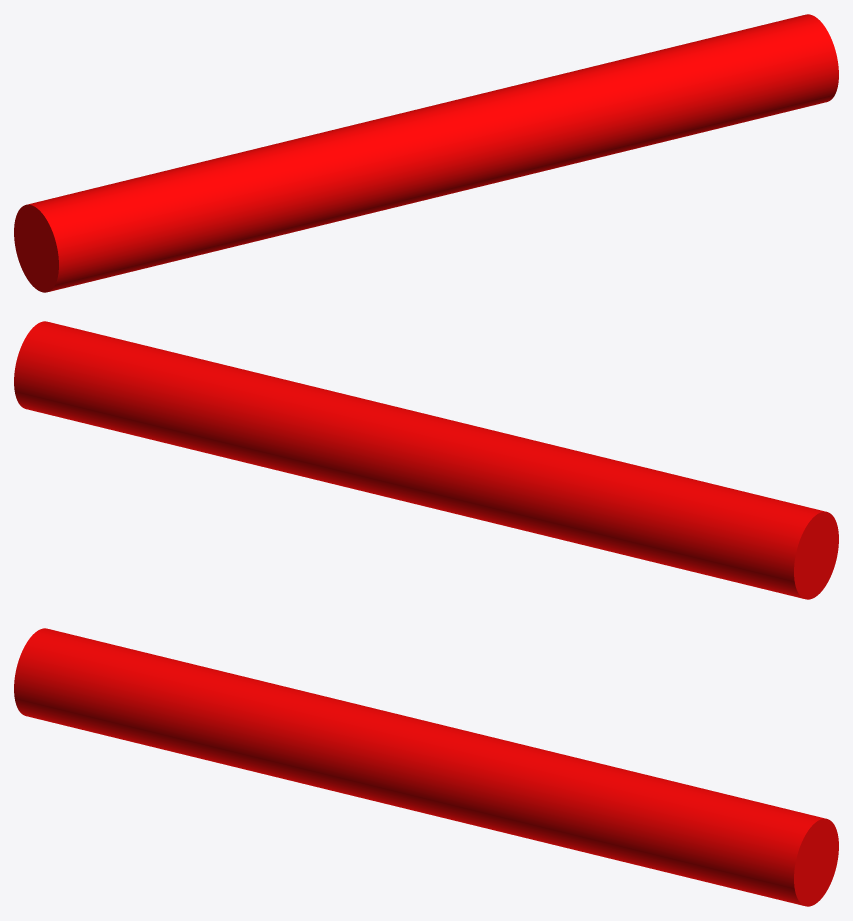
Rendered from x_axis.obj.
3 renders of one model, top to bottom at view 1: azimuth 30°, elevation 25°; view 2: azimuth 150°, elevation 25°; view 3: azimuth 330°, elevation 25°, orthographic.
Parts seen in each view (by area): view 1: mesh1, mesh2; view 2: mesh1, mesh2; view 3: mesh1, mesh0.
Part boxes in pixels (x1,y1,x2,y2): mesh1: [28, 14, 838, 291]; mesh2: [14, 204, 58, 292]; mesh1: [14, 321, 824, 598]; mesh2: [794, 511, 838, 599]; mesh1: [14, 628, 824, 905]; mesh0: [794, 818, 838, 906].
Bounding box in the file's own units: 0.1 × 0.00999 × 0.01.
